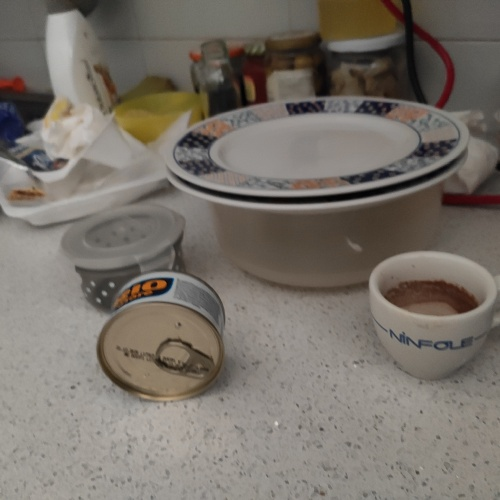tonno: (91, 266, 234, 406)
